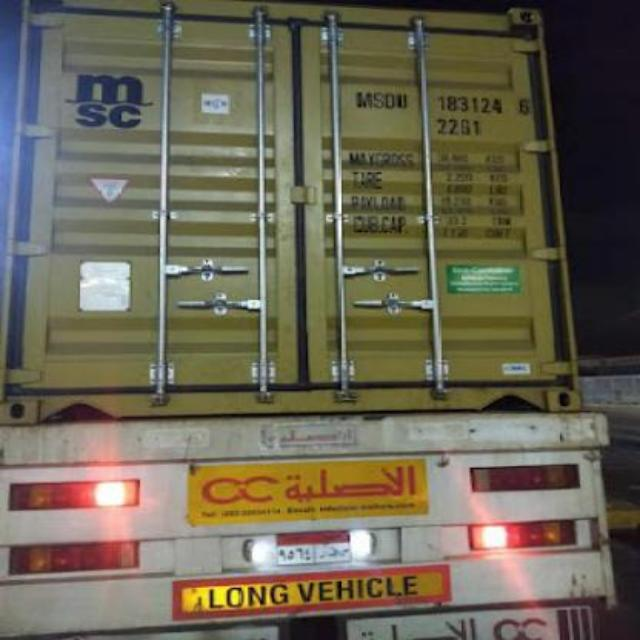1: (436, 93, 448, 111), (470, 94, 480, 112)
2: (480, 97, 492, 113)
3: (458, 92, 470, 112)
4: (491, 96, 504, 114)
6: (518, 97, 530, 113)
8: (448, 91, 458, 112)
D: (384, 88, 396, 112)
M: (354, 90, 374, 112)
S: (372, 90, 386, 112)
U: (398, 90, 408, 114)
